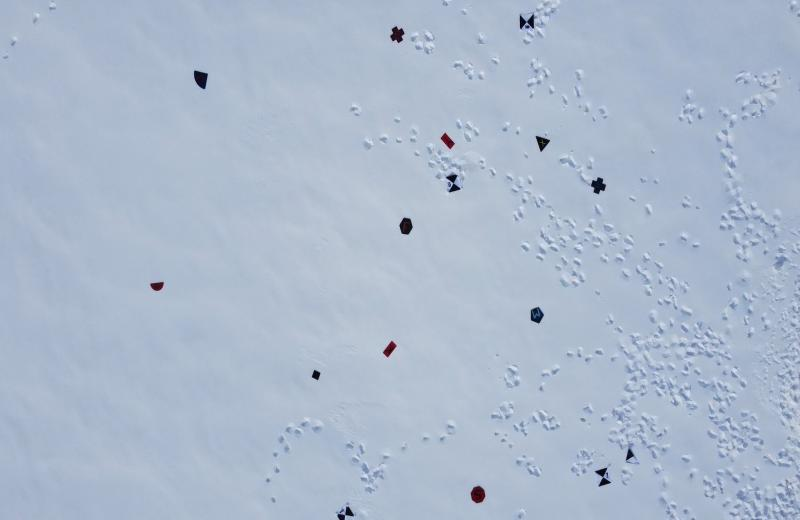Cross: (590, 177, 606, 195), (390, 27, 405, 45)
Hexagon: (399, 216, 413, 236)
Octagon: (470, 485, 486, 504)
Pentagon: (530, 307, 544, 324)
Quarter Circle: (192, 66, 208, 91)
Rectangle: (440, 132, 456, 151), (382, 340, 398, 358)
Semi Circle: (150, 282, 165, 292)
Square: (311, 369, 322, 381)
Triangle: (534, 134, 550, 153)
